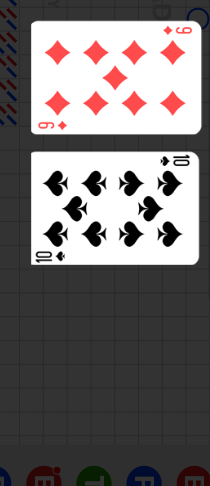10S: (34, 249, 68, 264)
9D: (161, 25, 193, 36)
